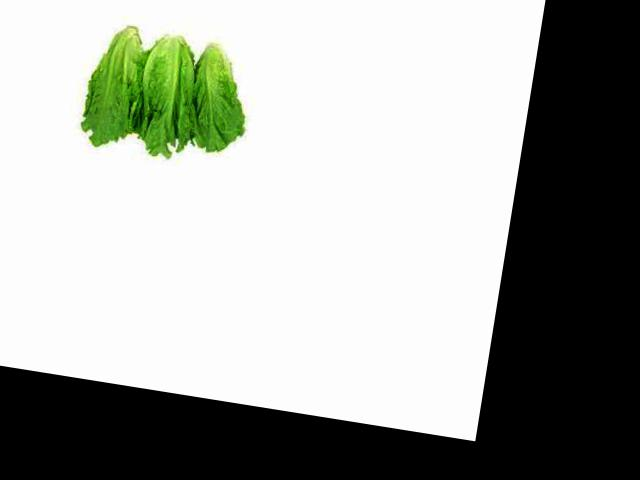lettuce: (77, 22, 253, 164)
